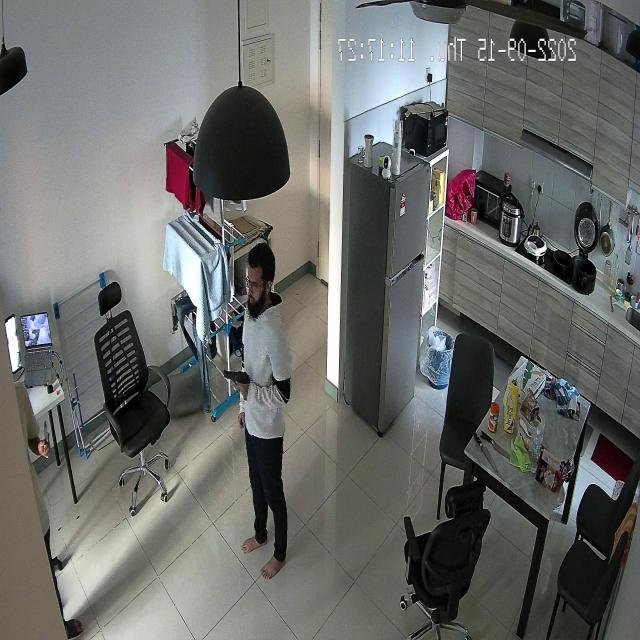Gun: (223, 368, 259, 410)
